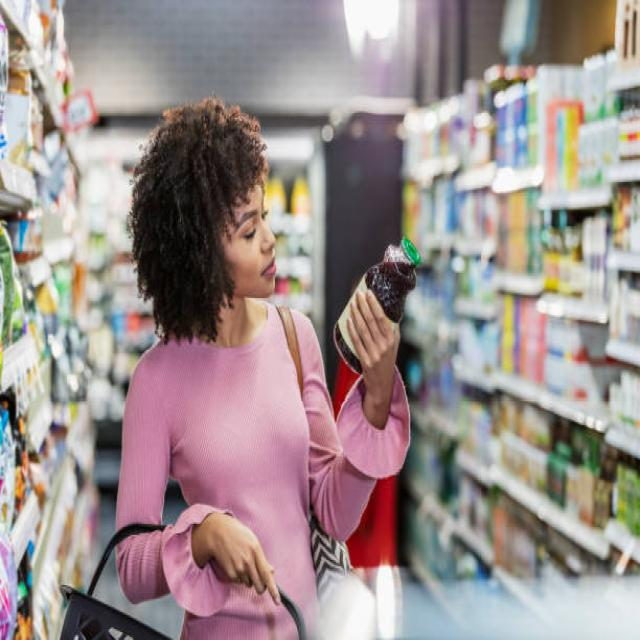article: (357, 238, 419, 328), (334, 307, 361, 372)
bags: (311, 507, 350, 598), (278, 306, 302, 394)
hands: (191, 513, 279, 604), (347, 290, 398, 428)
person: (116, 97, 409, 638)
